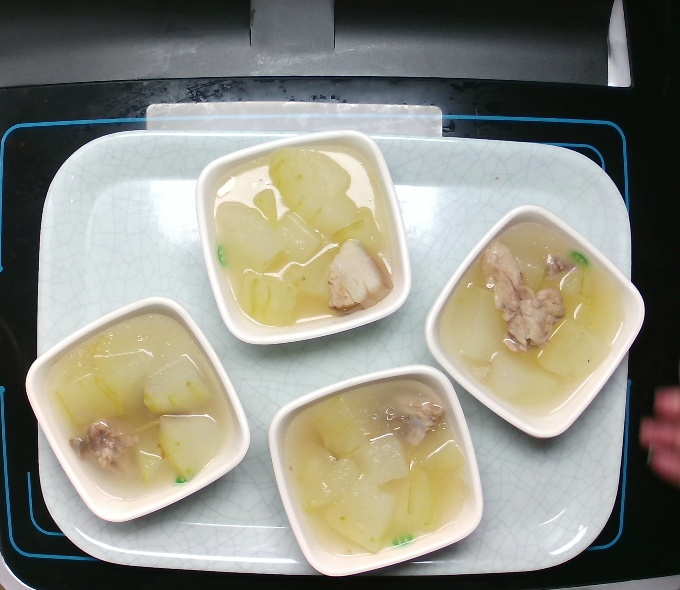wcq-DongGuaZhuRouTang: (42, 310, 234, 504), (438, 217, 627, 414), (206, 139, 395, 329), (278, 374, 473, 556)
